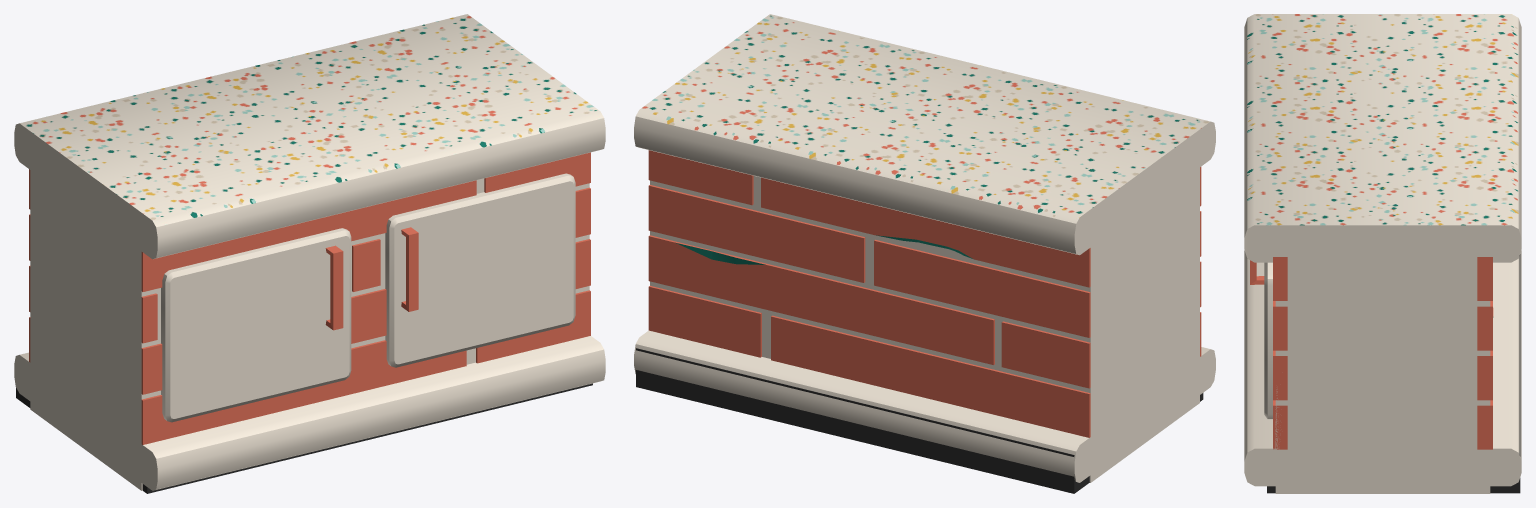
File: island_b.glb
3 views of the same model, side by side, from view 1: azimuth 30°, elevation 25°; view 2: azimuth 150°, elevation 25°; view 3: azimuth 270°, elevation 25° (orthographic). The views are drawn at different scales.
Visible parts, largest first — view 1: body; view 2: body; view 3: body.
Boxes of the visible parts, <box> form: body: <box>14,14,605,493</box>; body: <box>634,14,1215,493</box>; body: <box>1244,14,1521,493</box>.
Size of the model in its own units: 1.55 by 0.92 by 0.86.
Materials: 5 (1 with a texture image).
